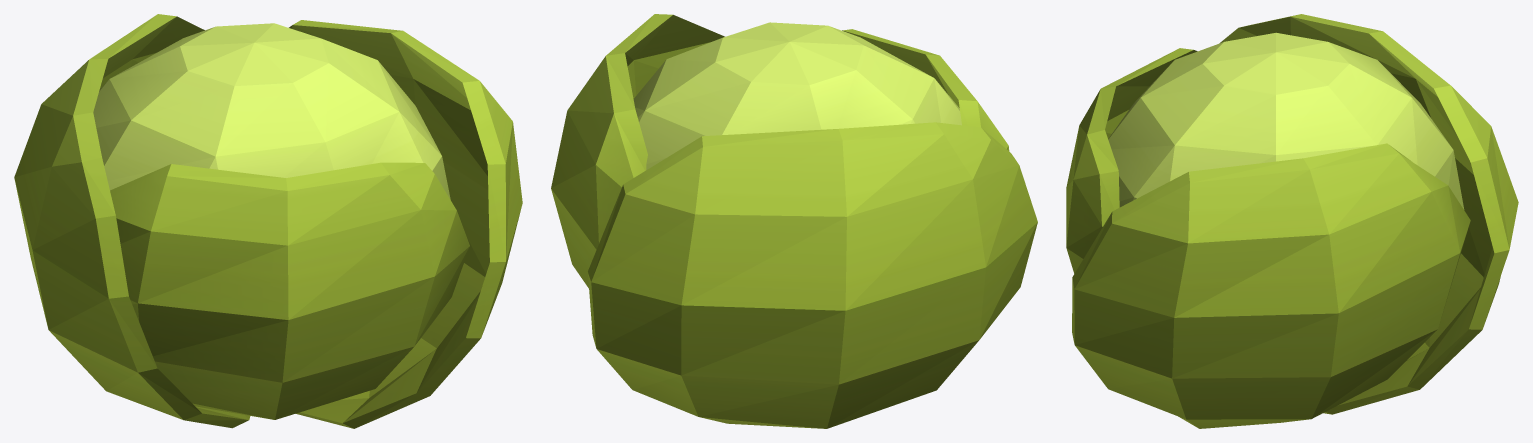
File: crop_cabbage_stage2.glb
3 renders of one model, left to right at view 1: azimuth 30°, elevation 25°; view 2: azimuth 150°, elevation 25°; view 3: azimuth 270°, elevation 25°, orthographic. The views are drawn at different scales.
Visible parts, largest first — view 1: crop_cabbage_stage2; view 2: crop_cabbage_stage2; view 3: crop_cabbage_stage2.
Part boxes in pixels (bbox=[...]): crop_cabbage_stage2: bbox=[14, 14, 522, 428]; crop_cabbage_stage2: bbox=[551, 14, 1037, 428]; crop_cabbage_stage2: bbox=[1066, 14, 1518, 428].
Bounding box in the file's own units: 0.2079 × 0.17 × 0.2013.
Materials: 1 (1 with a texture image).
